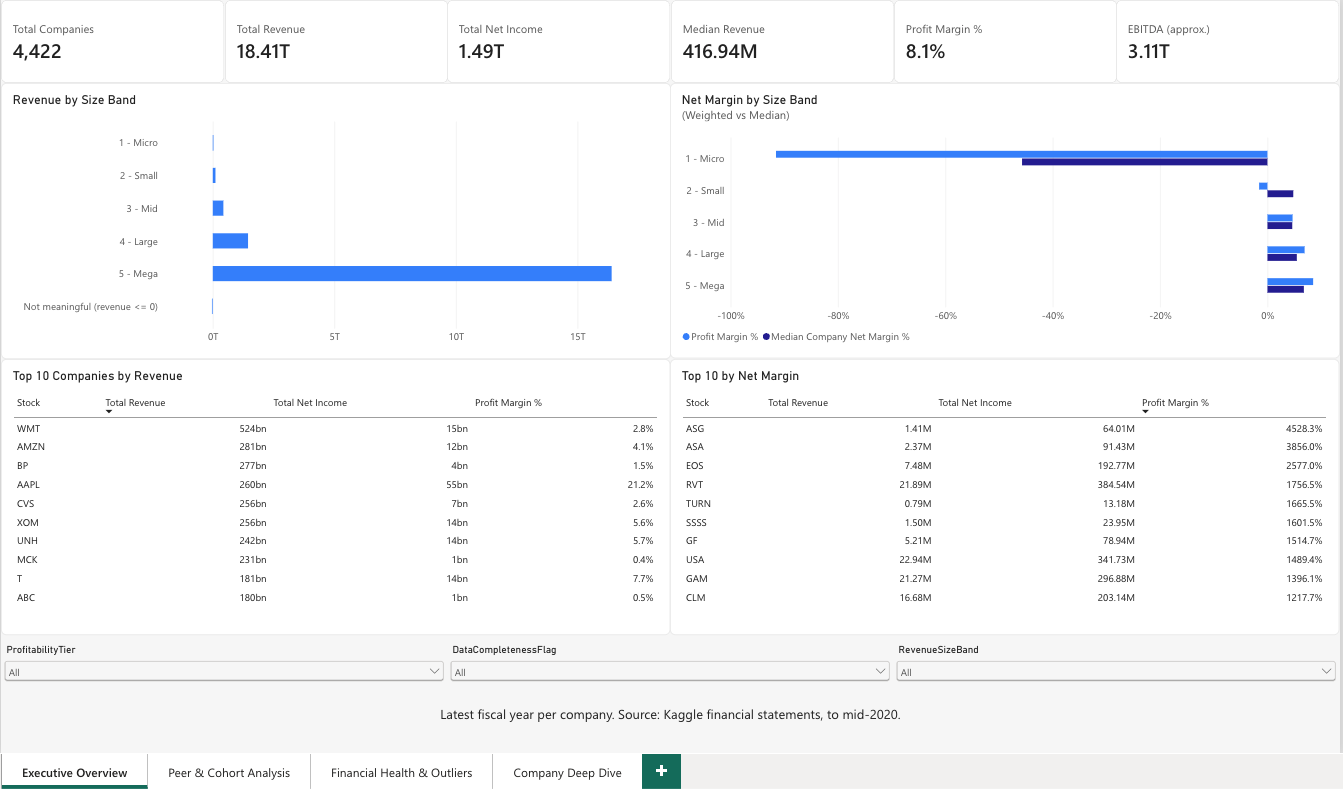

The dashboard page shown, as its layout file describes it:
{"tool":"powerbi","page":{"name":"Executive Overview","canvas":[1920,1080],"ordinal":0},"visuals":[{"type":"group","id":"g1","title":"Group 1","box":[0,0,1920,119.1],"z":0},{"type":"cardVisual","fields":{"Data":["fact_annual.Total Companies"]},"box":[0,0,320.1,119.1],"z":0,"group":"g1"},{"type":"clusteredBarChart","title":"Revenue by Size Band","fields":{"Category":["dim_company.RevenueSizeBand"],"Y":["fact_annual.Total Revenue"]},"box":[0,119.1,960.5,395.6],"z":0,"group":"g3"},{"type":"slicer","fields":{"Values":["dim_company.RevenueSizeBand"]},"box":[1280,925.2,640,73.3],"z":0,"group":"g2"},{"type":"cardVisual","fields":{"Data":["fact_annual.Total Revenue"]},"box":[320.7,0,320.1,119.1],"z":1000,"group":"g1"},{"type":"clusteredBarChart","title":"Net Margin by Size Band","fields":{"Category":["dim_company.RevenueSizeBand"],"Y":["fact_annual.Profit Margin %","fact_annual.Median Company Net Margin %"]},"box":[960,119.8,960.9,395],"z":1000,"group":"g3"},{"type":"tableEx","title":"Top 10 Companies by Revenue","fields":{"Values":["dim_company.Stock","fact_annual.Total Revenue","fact_annual.Total Net Income","fact_annual.Profit Margin %"]},"box":[0,514.8,960,395.7],"z":1000},{"type":"slicer","fields":{"Values":["dim_company.ProfitabilityTier"]},"box":[0,925.2,640,73.3],"z":1000,"group":"g2"},{"type":"cardVisual","fields":{"Data":["fact_annual.Total Net Income"]},"box":[639.6,0,320.1,119.1],"z":2000,"group":"g1"},{"type":"tableEx","title":"Top 10 by Net Margin","fields":{"Values":["dim_company.Stock","fact_annual.Total Revenue","fact_annual.Total Net Income","fact_annual.Profit Margin %"]},"box":[960,514.8,960,395.7],"z":2000},{"type":"slicer","fields":{"Values":["dim_company.DataCompletenessFlag"]},"box":[640,925.2,640,73.3],"z":2000,"group":"g2"},{"type":"cardVisual","fields":{"Data":["fact_annual.Profit Margin %"]},"box":[1281,0,320.1,119.1],"z":3000,"group":"g1"},{"type":"textbox","box":[0,1011.3,1920,49.5],"z":3000},{"type":"cardVisual","fields":{"Data":["fact_annual.EBITDA (approx.)"]},"box":[1599.9,0,320.1,119.1],"z":4000,"group":"g1"},{"type":"group","id":"g2","title":"Group 2","box":[0,925.2,1920,73.3],"z":4000},{"type":"cardVisual","fields":{"Data":["fact_annual.Median Revenue"]},"box":[960.3,0,320.1,119.1],"z":5000,"group":"g1"},{"type":"group","id":"g3","title":"Group 4","box":[0,119.1,1920,395.7],"z":5000}]}

Visuals, with their boxes on the page's 1920x1080 design canvas (x1, y1, x2, y2). These are canvas units, not pixel positions in the 1343x789 screenshot, which may show the page scaled, cropped or inside an application window:
"Group 1" group: x1=0, y1=0, x2=1920, y2=119
cardVisual - fact_annual.Total Companies: x1=0, y1=0, x2=320, y2=119
"Revenue by Size Band" clusteredBarChart: x1=0, y1=119, x2=960, y2=515
slicer - dim_company.RevenueSizeBand: x1=1280, y1=925, x2=1920, y2=998
cardVisual - fact_annual.Total Revenue: x1=321, y1=0, x2=641, y2=119
"Net Margin by Size Band" clusteredBarChart: x1=960, y1=120, x2=1921, y2=515
"Top 10 Companies by Revenue" tableEx: x1=0, y1=515, x2=960, y2=910
slicer - dim_company.ProfitabilityTier: x1=0, y1=925, x2=640, y2=998
cardVisual - fact_annual.Total Net Income: x1=640, y1=0, x2=960, y2=119
"Top 10 by Net Margin" tableEx: x1=960, y1=515, x2=1920, y2=910
slicer - dim_company.DataCompletenessFlag: x1=640, y1=925, x2=1280, y2=998
cardVisual - fact_annual.Profit Margin %: x1=1281, y1=0, x2=1601, y2=119
textbox: x1=0, y1=1011, x2=1920, y2=1061
cardVisual - fact_annual.EBITDA (approx.): x1=1600, y1=0, x2=1920, y2=119
"Group 2" group: x1=0, y1=925, x2=1920, y2=998
cardVisual - fact_annual.Median Revenue: x1=960, y1=0, x2=1280, y2=119
"Group 4" group: x1=0, y1=119, x2=1920, y2=515
